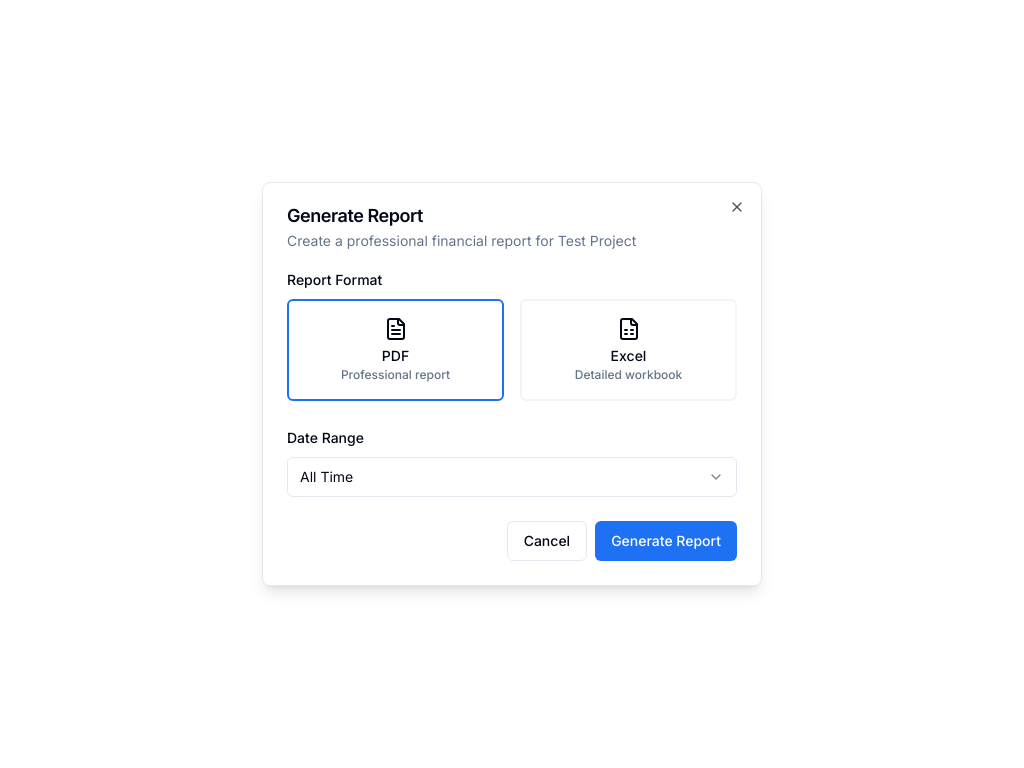
Test case: ReportOptionsModal › displays date range presets
// Click the select trigger to open dropdown
Click the dropdown.
click(327, 476)  # box left=287, top=457, right=737, bottom=497
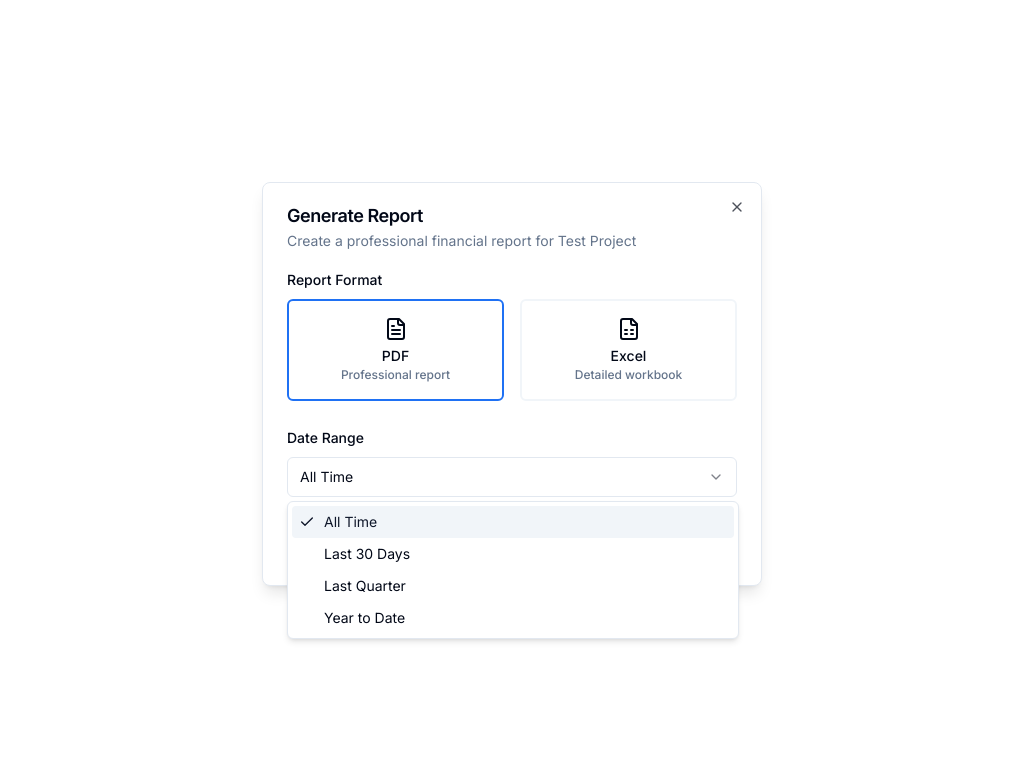
Now the option "All Time" is shown, box left=292, top=506, right=734, bottom=538
Now the option "Last 30 Days" is shown, box left=324, top=545, right=410, bottom=562
Now the option "Last Quarter" is shown, box left=324, top=577, right=406, bottom=594
